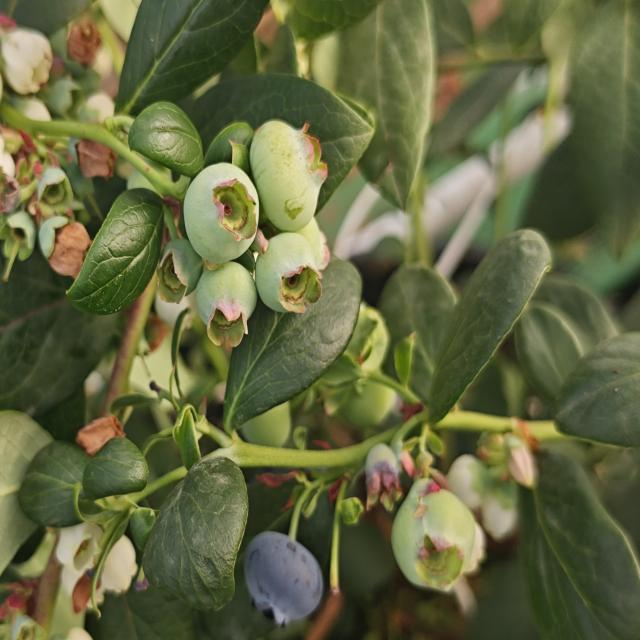ripe: (237, 525, 326, 629)
